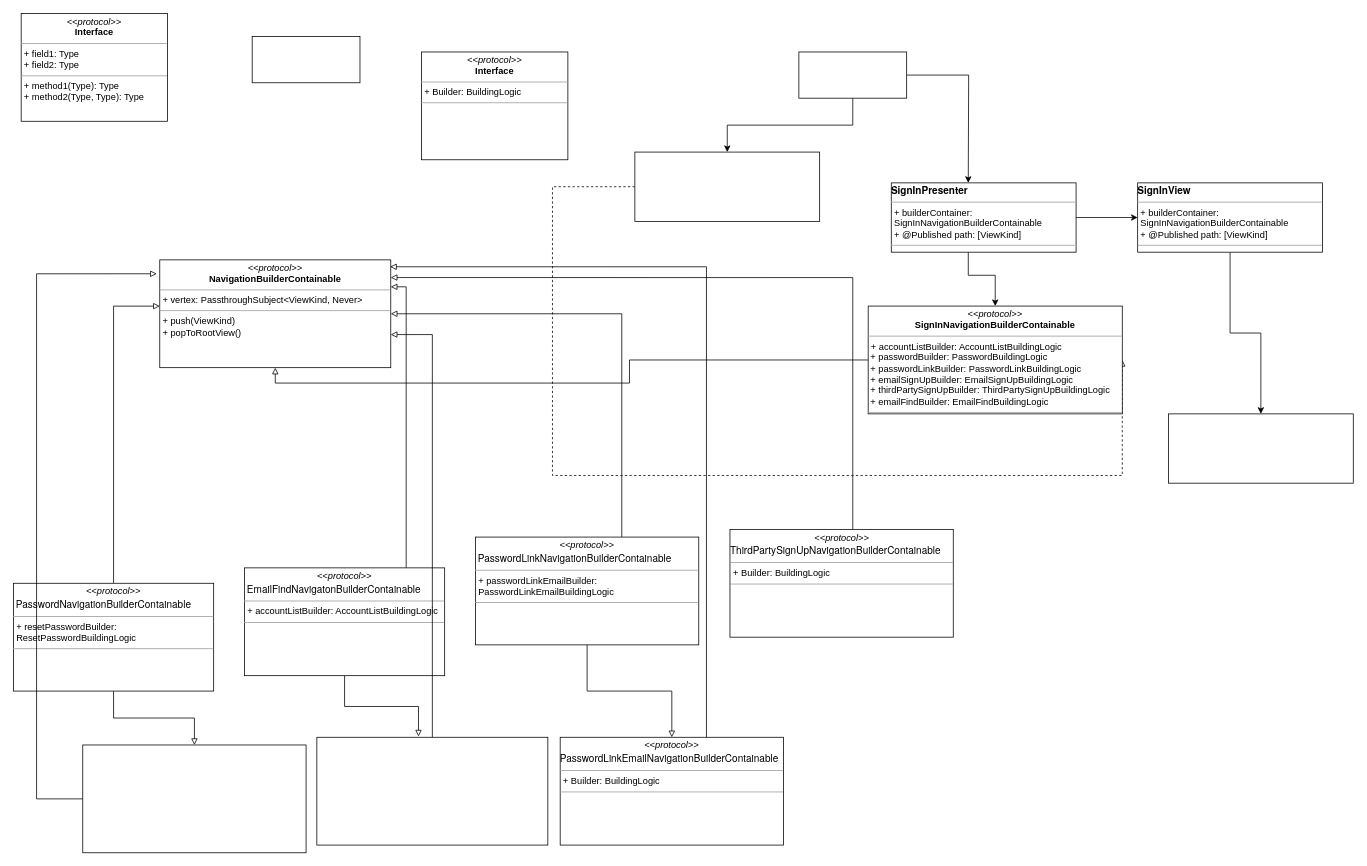
This 1367x866 diagram has some shape labels left out. The shapes that lost their labels are listed below. From the top down, each one's centre as x and y in pixels, then its label:
pixel 305 59: Class
pixel 852 74: SignInBuilder
pixel 727 186: SignInNavigationBuilderContainer
pixel 1260 448: NavigationStack<Data, Root> + path: Binding<Data>
pixel 194 798: <<protocol>> ResetPasswordNavigationBuilderContainable
pixel 432 791: <<protocol>> AccountListNavigationBuilderContainable
